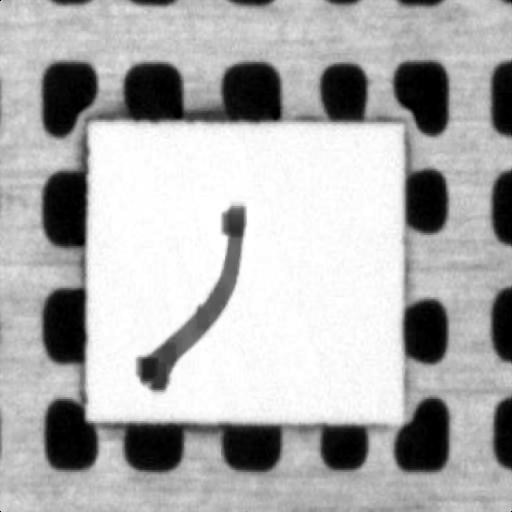DIE_INK: (136, 198, 250, 396)
